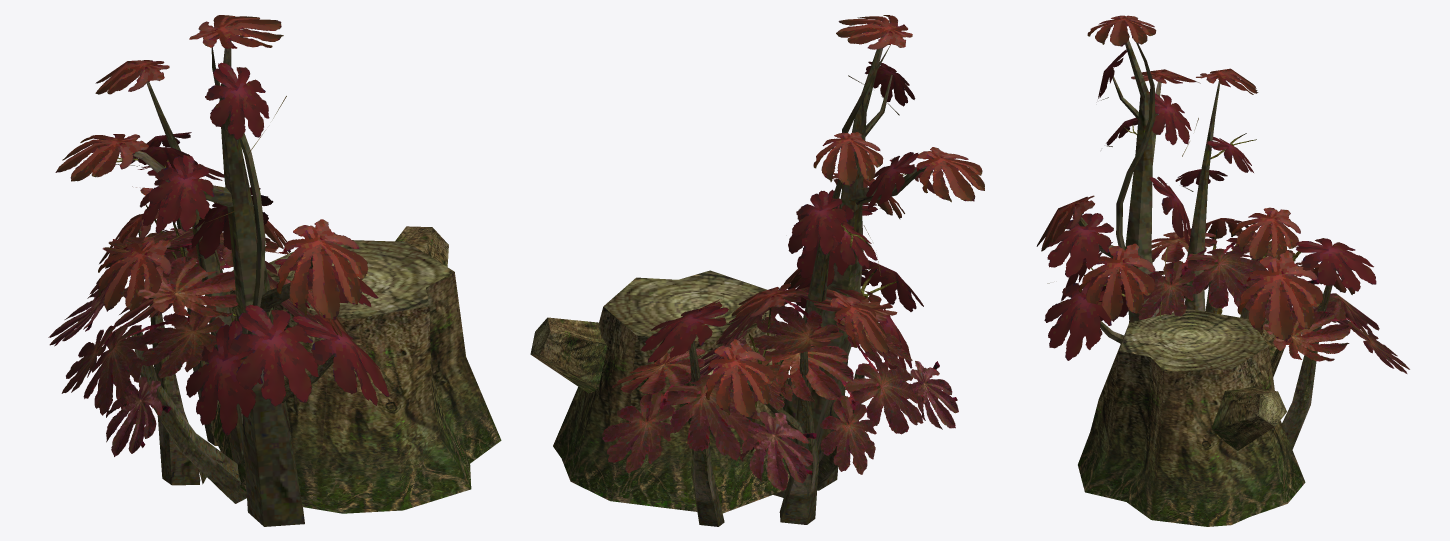
File: guanmu_08.FBX
3 renders of one model, left to right at view 1: azimuth 30°, elevation 25°; view 2: azimuth 150°, elevation 25°; view 3: azimuth 270°, elevation 25°, orthographic. The views are drawn at different scales.
Parts seen in each view (by area): view 1: guanmu_08_02, guanmu_08_01, guanmu_08_04, guanmu_08_03, guanmu_08_06; view 2: guanmu_08_03, guanmu_08_02, guanmu_08_01, guanmu_08_04, guanmu_08_06; view 3: guanmu_08_01, guanmu_08_02, guanmu_08_03, guanmu_08_04, guanmu_08_06.
Part boxes in pixels (box(x1,y1,x2,y2)): guanmu_08_02: box(55, 15, 390, 435); guanmu_08_01: box(211, 226, 501, 513); guanmu_08_04: box(131, 40, 334, 526); guanmu_08_03: box(48, 228, 319, 456); guanmu_08_06: box(231, 240, 454, 319); guanmu_08_03: box(602, 286, 958, 490); guanmu_08_02: box(641, 15, 984, 452); guanmu_08_01: box(531, 307, 789, 513); guanmu_08_04: box(689, 36, 927, 526); guanmu_08_06: box(530, 270, 769, 375); guanmu_08_01: box(1078, 319, 1305, 526); guanmu_08_02: box(1036, 15, 1376, 360); guanmu_08_03: box(1138, 230, 1409, 373); guanmu_08_04: box(1073, 40, 1336, 449); guanmu_08_06: box(1119, 309, 1286, 426).
Size of the model in its own units: 3.4 by 3.67 by 3.29.
